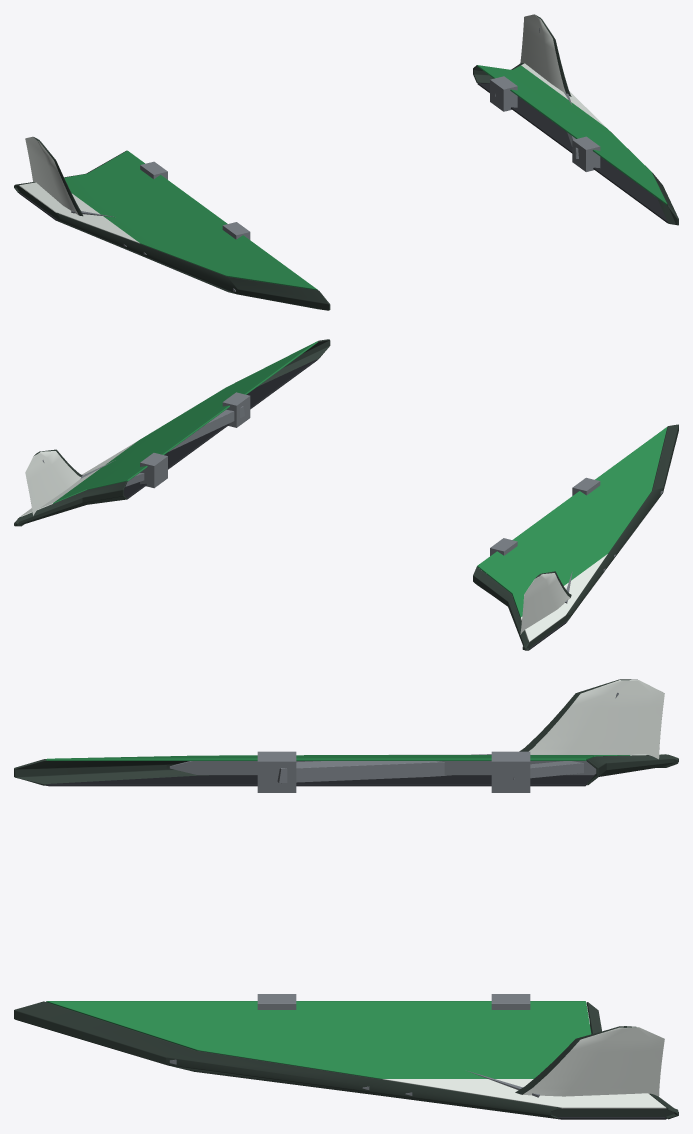
The model's file is wraith_wing_blade.fbx.
The picture shows the model from 3 angles, top to bottom: view 1: azimuth 30°, elevation 25°; view 2: azimuth 150°, elevation 25°; view 3: azimuth 270°, elevation 25°; orthographic projection. The views are drawn at different scales.
Parts seen in each view (by area): view 1: Wing_Top_L.001, Wing_Top_R.001, Wing_LE_L.001, Wing_Bottom_R.001, Wing_Blade_Extra_R, Wing_Blade_Extra_L, Wing_Structure_R.001, Wing_Structure_L.001; view 2: Wing_Top_L.001, Wing_Top_R.001, Wing_Structure_R.001, Wing_Blade_Extra_R, Wing_LE_L.001, Wing_Blade_Extra_L, Wing_Bottom_R.001, Wing_TE_R.001, Wing_TE_L.001, Wing_Structure_L.001, Wing_LE_R.001; view 3: Wing_Top_R.001, Wing_LE_R.001, Wing_Structure_L.001, Wing_Blade_Extra_L, Wing_Blade_Extra_R, Wing_Bottom_L.001, Wing_LE_L.001, Wing_Top_L.001, Wing_Structure_R.001, Wing_TE_L.001, Wing_Tip_R.001.
Part boxes in pixels (bbox=[...]): Wing_Top_L.001: bbox=[19, 150, 317, 290]; Wing_Top_R.001: bbox=[477, 63, 667, 204]; Wing_LE_L.001: bbox=[56, 213, 330, 310]; Wing_Bottom_R.001: bbox=[477, 83, 667, 223]; Wing_Blade_Extra_R: bbox=[520, 14, 571, 96]; Wing_Blade_Extra_L: bbox=[25, 136, 83, 216]; Wing_Structure_R.001: bbox=[490, 76, 600, 171]; Wing_Structure_L.001: bbox=[71, 161, 250, 291]; Wing_Top_L.001: bbox=[477, 426, 667, 642]; Wing_Top_R.001: bbox=[19, 341, 317, 517]; Wing_Structure_R.001: bbox=[80, 392, 250, 488]; Wing_Blade_Extra_R: bbox=[25, 449, 82, 515]; Wing_LE_L.001: bbox=[566, 424, 678, 621]; Wing_Blade_Extra_L: bbox=[520, 571, 571, 634]; Wing_Bottom_R.001: bbox=[83, 359, 317, 505]; Wing_TE_R.001: bbox=[14, 481, 127, 526]; Wing_TE_L.001: bbox=[473, 567, 529, 650]; Wing_Structure_L.001: bbox=[490, 477, 662, 603]; Wing_LE_R.001: bbox=[235, 339, 330, 386]; Wing_Top_R.001: bbox=[46, 1001, 666, 1108]; Wing_LE_R.001: bbox=[14, 1001, 559, 1118]; Wing_Structure_L.001: bbox=[169, 751, 596, 792]; Wing_Blade_Extra_L: bbox=[519, 679, 664, 759]; Wing_Blade_Extra_R: bbox=[515, 1026, 664, 1096]; Wing_Bottom_L.001: bbox=[46, 767, 656, 786]; Wing_LE_L.001: bbox=[14, 759, 208, 785]; Wing_Top_L.001: bbox=[46, 754, 664, 760]; Wing_Structure_R.001: bbox=[169, 994, 539, 1097]; Wing_TE_L.001: bbox=[586, 754, 678, 785]; Wing_Tip_R.001: bbox=[551, 1106, 678, 1118].
Size of the model in its own units: 217 by 26.03 by 172.
